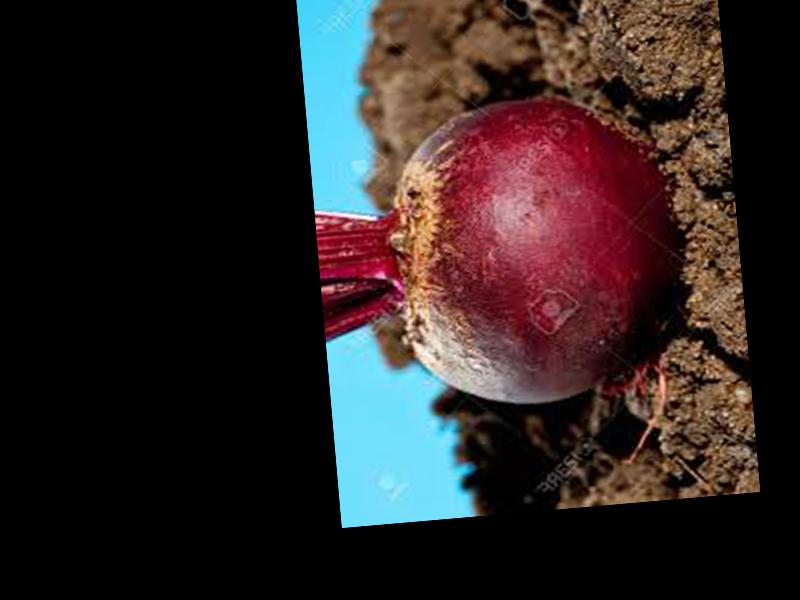Beet: (309, 87, 689, 422)
